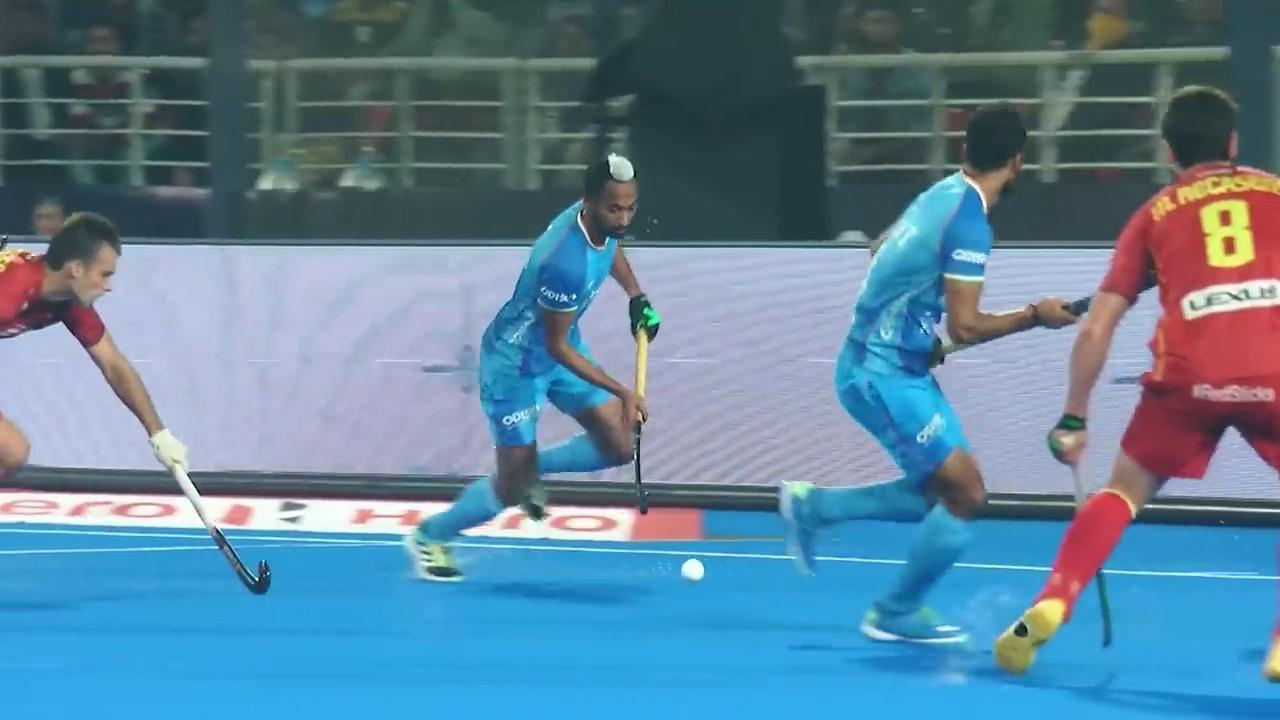ball: (670, 551, 710, 586)
